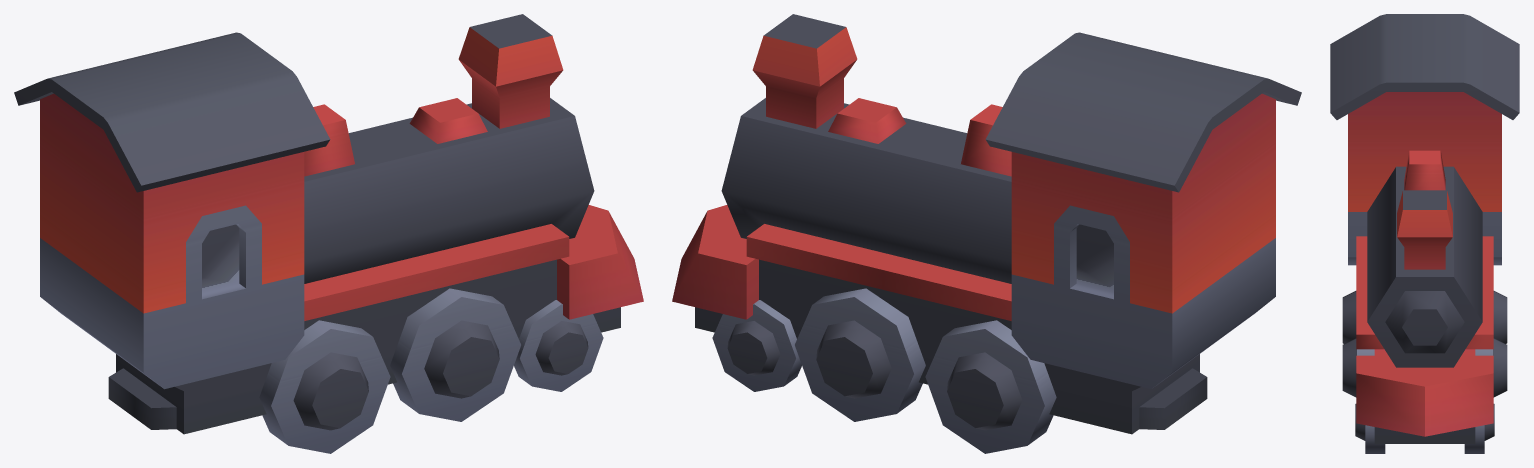
The model's file is kenney-holiday-train-locomotive.glb.
3 views of the same model, side by side, from view 1: azimuth 30°, elevation 25°; view 2: azimuth 150°, elevation 25°; view 3: azimuth 270°, elevation 25° (orthographic). The views are drawn at different scales.
Parts seen in each view (by area): view 1: train-locomotive; view 2: train-locomotive; view 3: train-locomotive.
Part boxes in pixels (left/top/right/bottom): train-locomotive: left=14, top=14, right=643, bottom=453; train-locomotive: left=672, top=14, right=1301, bottom=453; train-locomotive: left=1330, top=14, right=1519, bottom=453.
Size of the model in its own units: 0.6695 by 0.4283 by 0.2651.
1 material, 1 textured.
